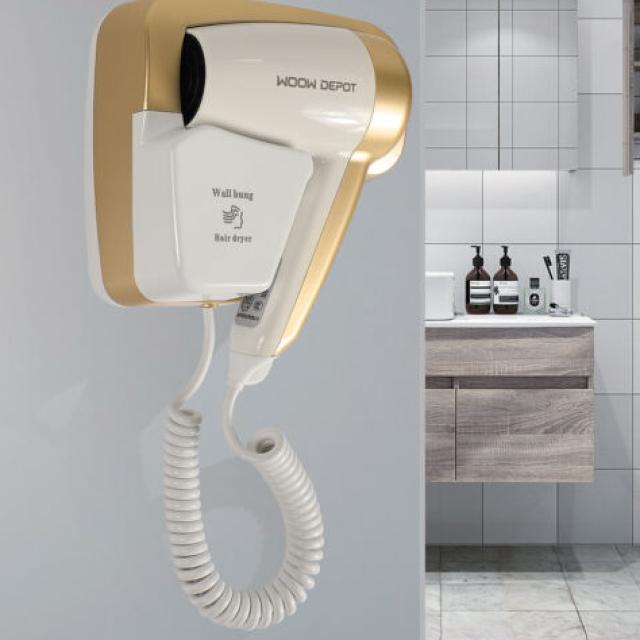dryer: (84, 0, 418, 632), (110, 1, 384, 402)
